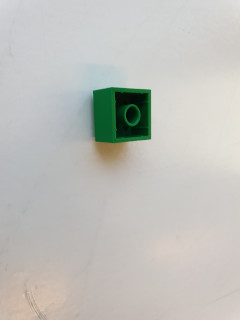2x2 green: (93, 86, 153, 144)
